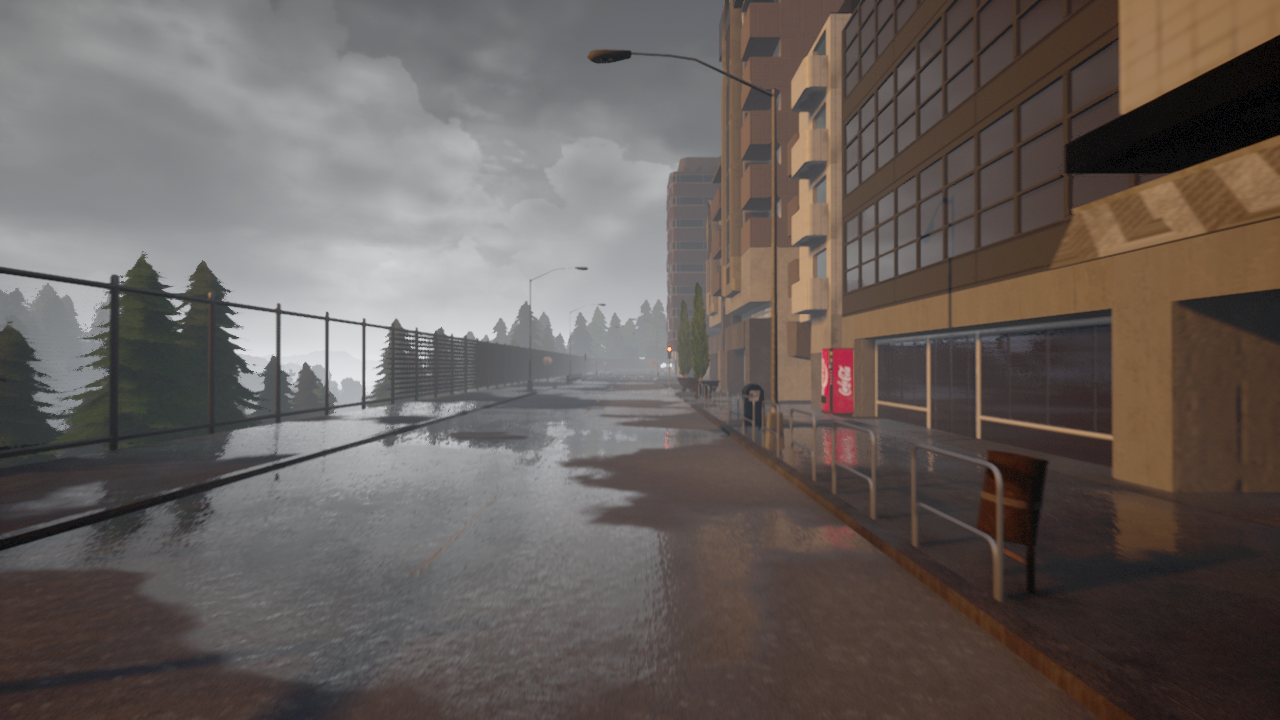red: (666, 345, 672, 360)
